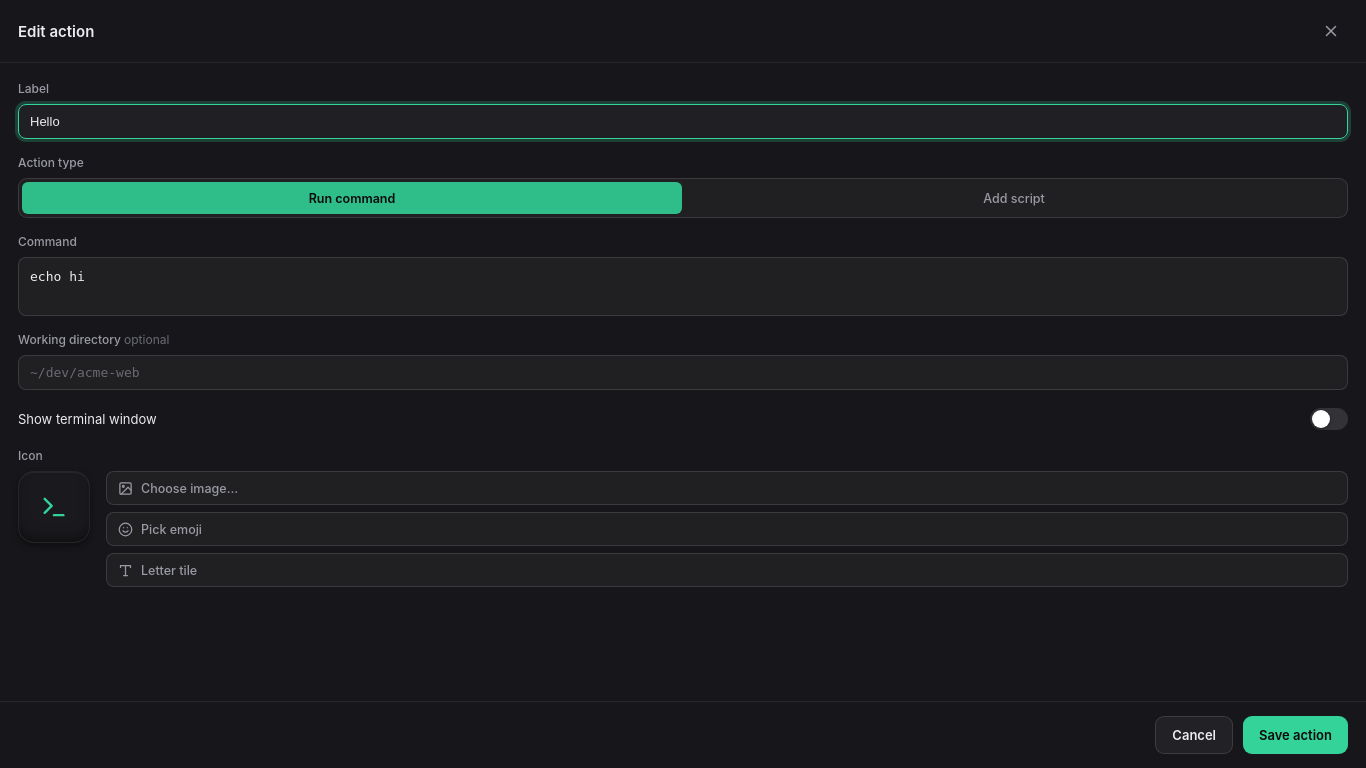
Test: DialogHost › sendDialogMessage rejection routes to "Dialog unavailable." and does not produce unhandled rejection
The image size is (1366, 768).
Expected: the field showing "Hello" is shown, top-left (18, 104), bottom-right (1348, 139)
Click the button "Save action": (1296, 735) top-left (1243, 716), bottom-right (1348, 754)
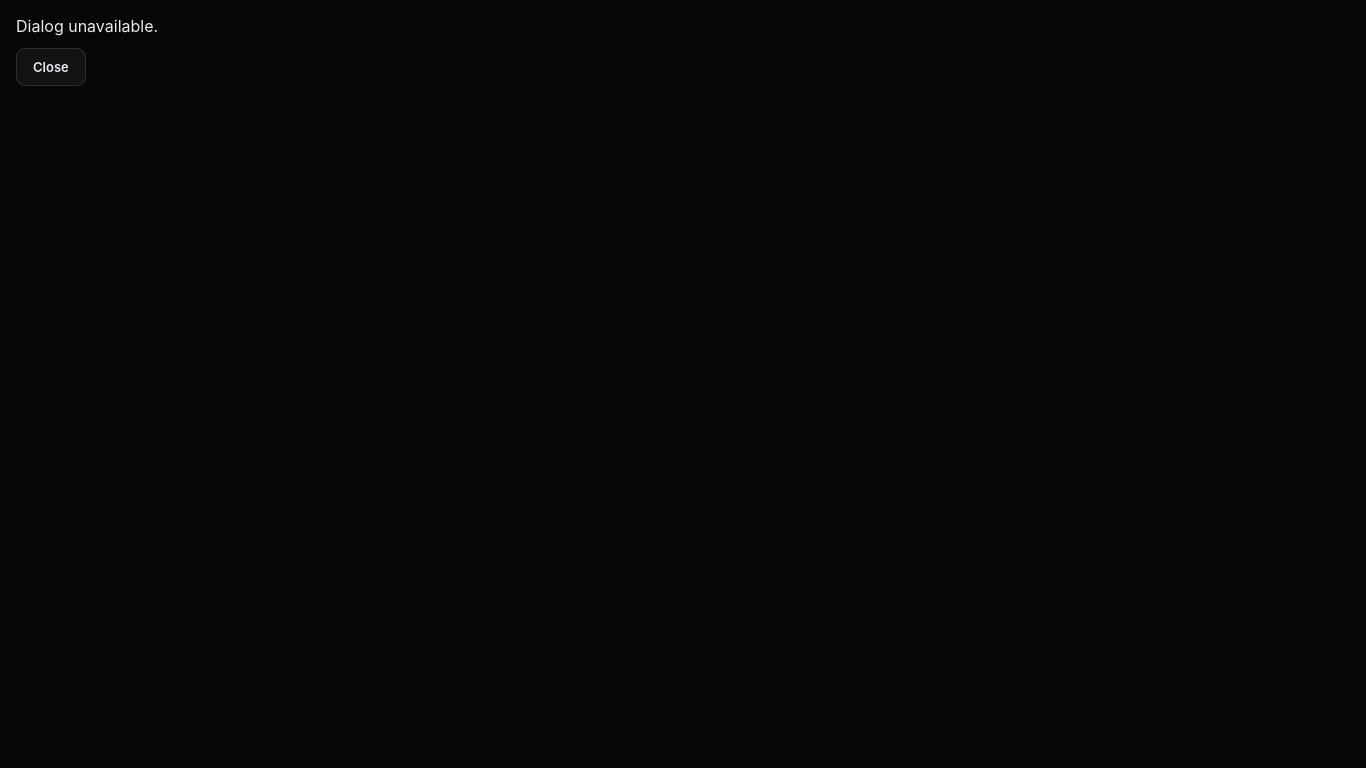
Now the text "Dialog unavailable." is shown, box top-left (16, 16), bottom-right (158, 36)
